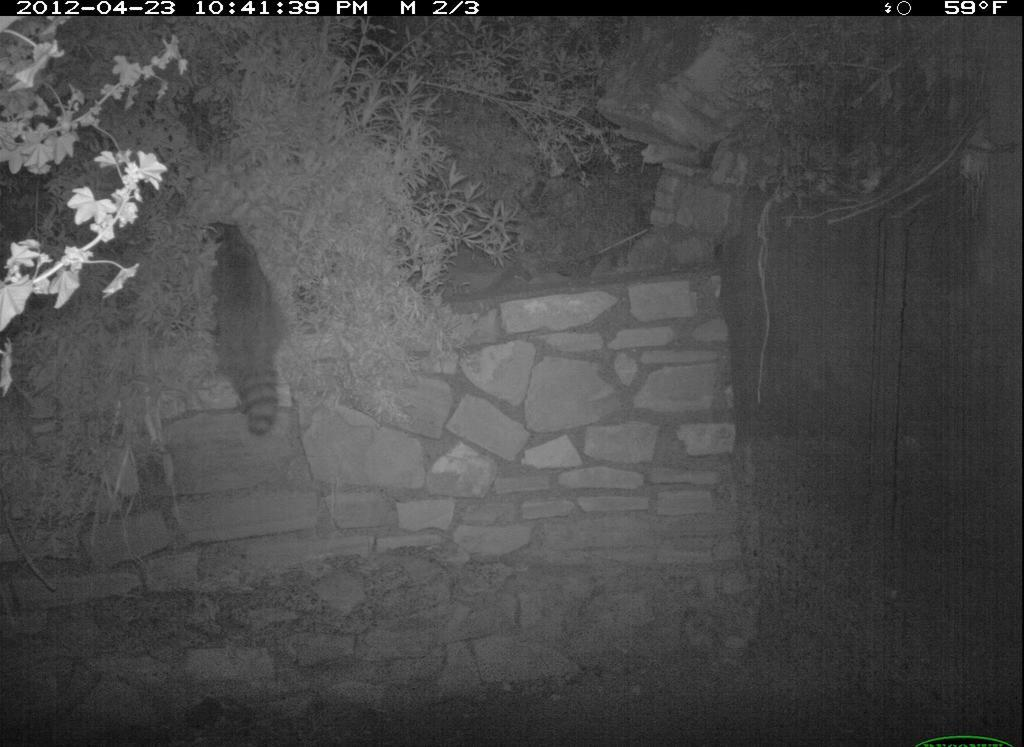raccoon: (181, 204, 297, 446)
